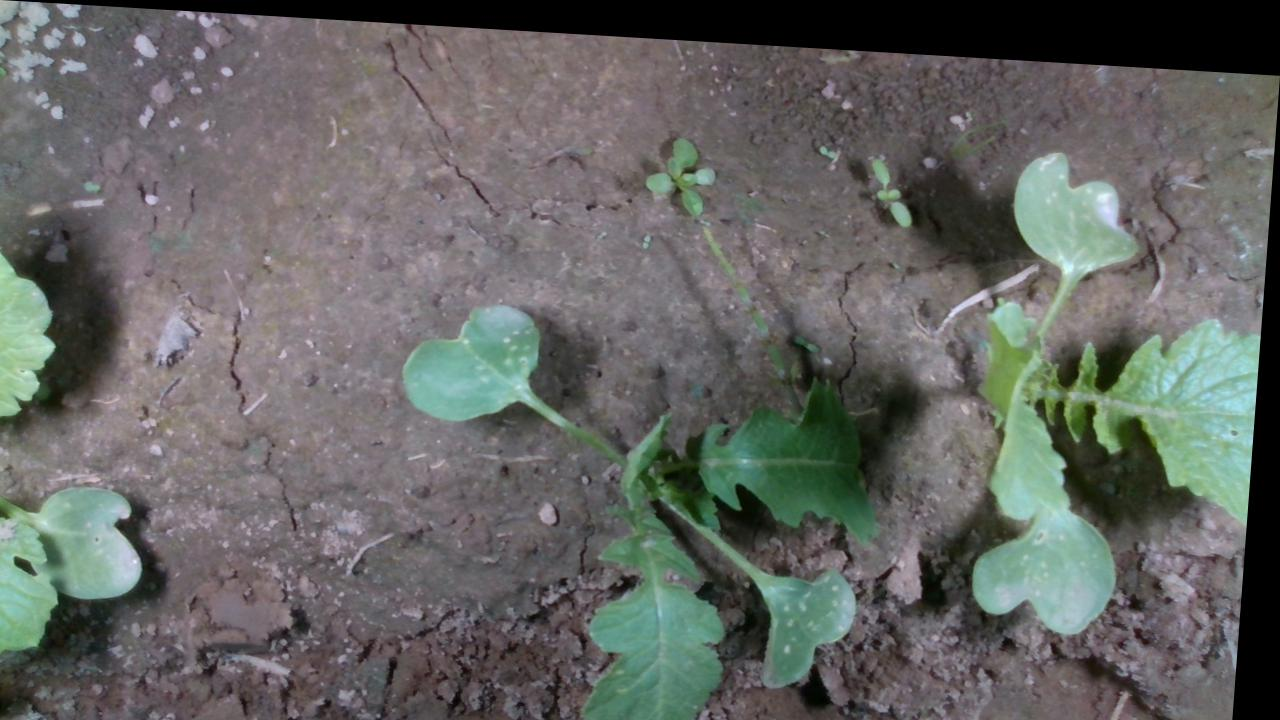weed: (644, 121, 724, 210), (867, 143, 918, 218), (818, 132, 840, 149)
